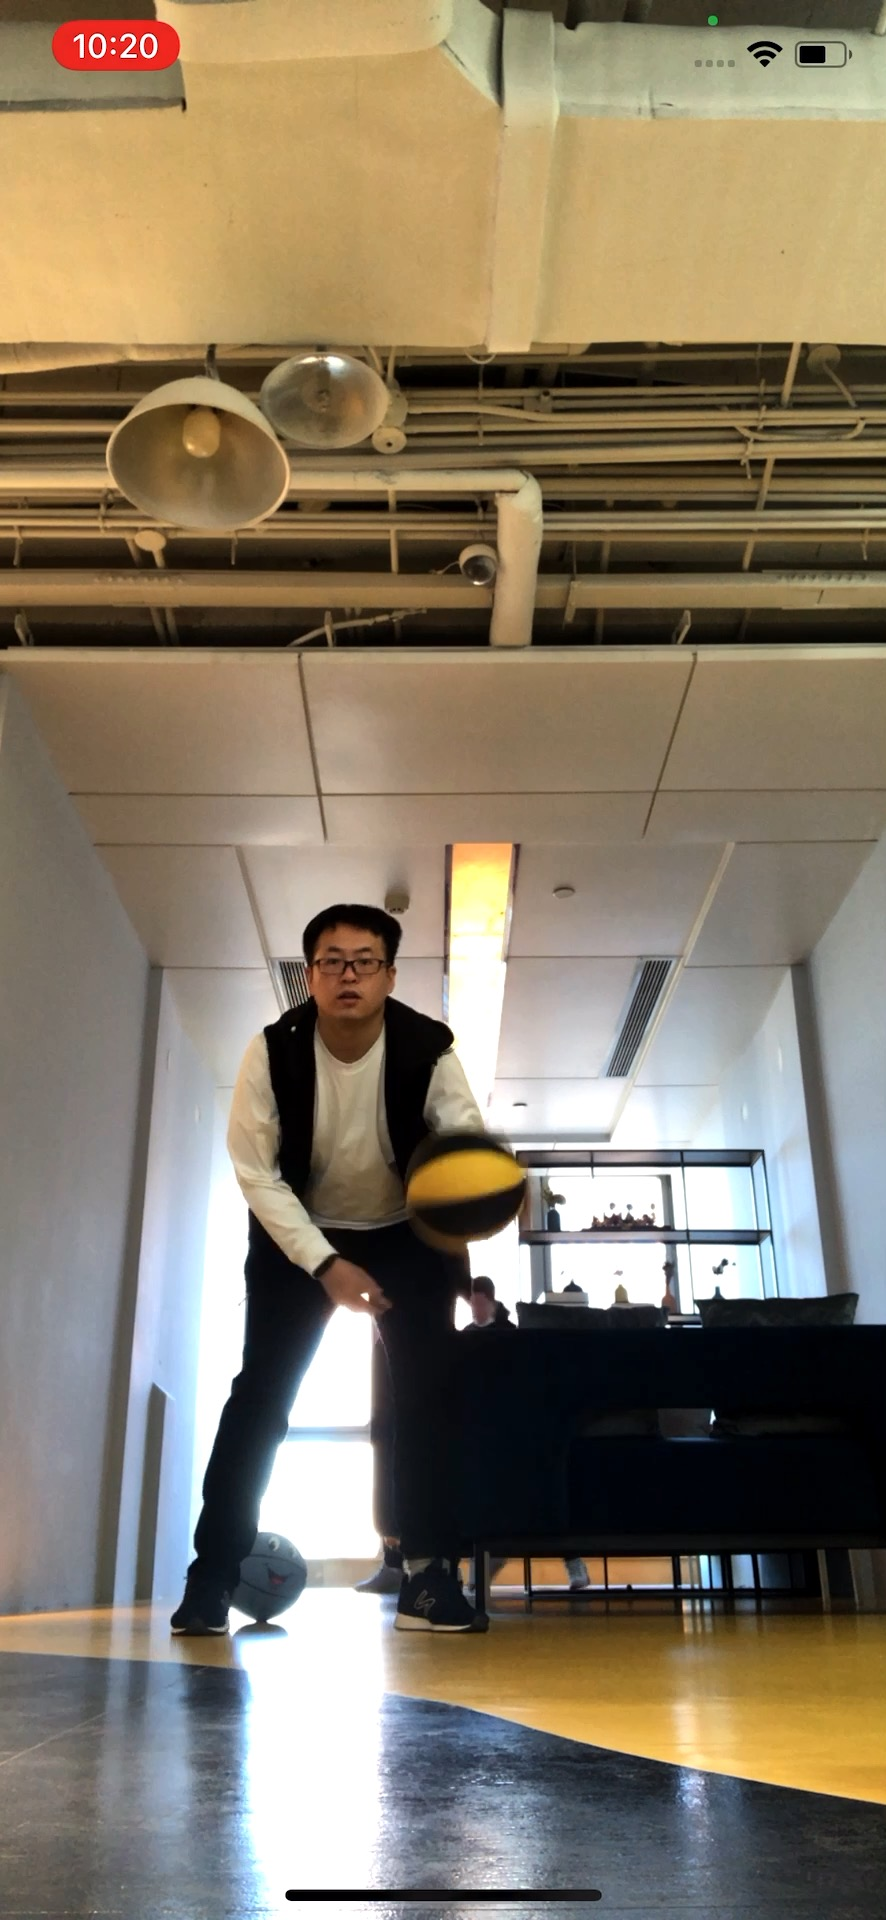ball: (404, 1125, 527, 1245), (231, 1529, 303, 1616)
